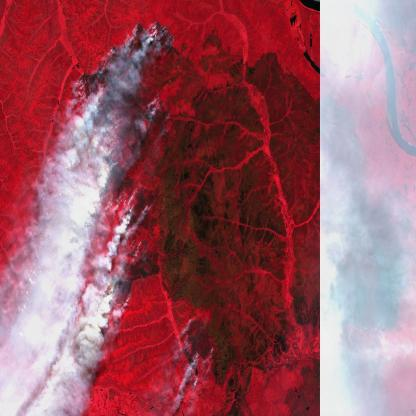fire: (74, 18, 180, 314), (181, 314, 215, 385)
